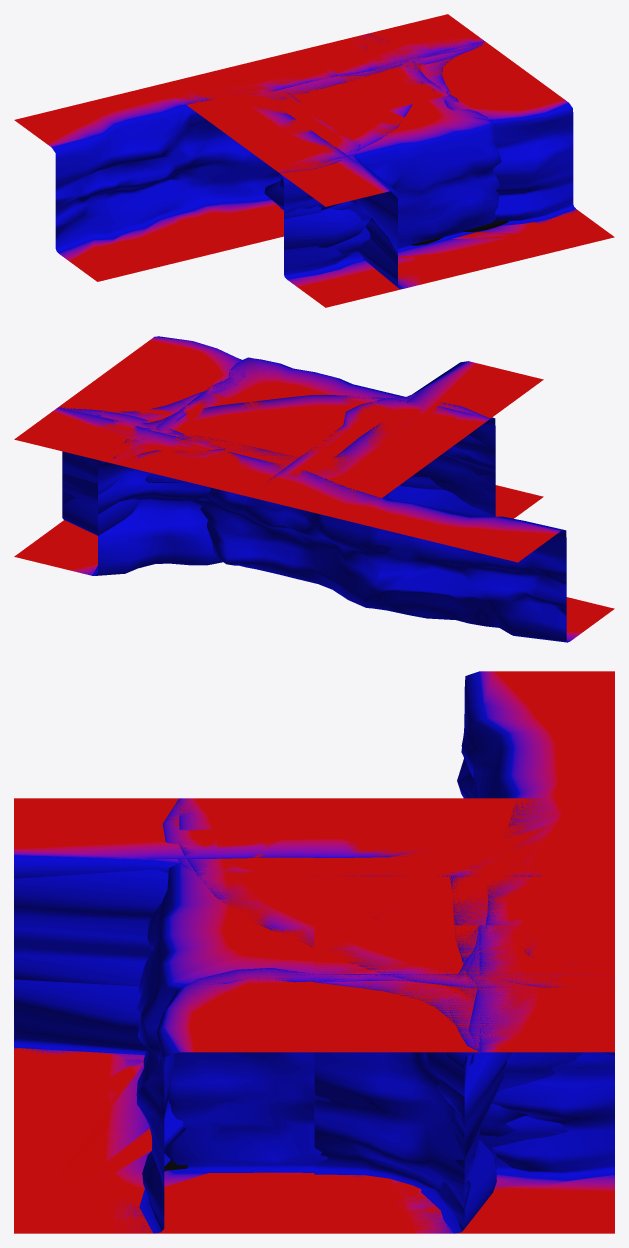
The model's file is Half_Cliffs_Vertex_Color.fbx.
3 views of the same model, one above another, from view 1: azimuth 30°, elevation 25°; view 2: azimuth 150°, elevation 25°; view 3: azimuth 270°, elevation 25° (orthographic). The views are drawn at different scales.
Visible parts, largest first — view 1: Half_Cliff_Face_4, Half_Cliff_Big_Hard_Corner, Cliff_Stears, Half_Cliff_big_Inside_Corner_Hard, Half_Cliff_Big_Inside_Corner, Half_Cliff_Big_Soft_Corner, Half_Cliff_Face_2, Half_Cliff_Face_1, Half_Cliff_Corner_3, Half_Cliff_Face_3, Half_Cliff_Corner_4; view 2: Half_Cliff_Face_4, Half_Cliff_Big_Hard_Corner, Half_Cliff_Big_Soft_Corner, Half_Cliff_big_Inside_Corner_Hard, Cliff_Stears, Half_Cliff_Corner_2, Half_Cliff_Face_2, Half_Cliff_Corner_3, Half_Cliff_Face_1, Half_Cliff_Big_Inside_Corner, Half_Cliff_Corner_4, Half_Cliff_Corner_1 (+1 smaller); view 3: Half_Cliff_Big_Hard_Corner, Half_Cliff_big_Inside_Corner_Hard, Half_Cliff_Face_4, Half_Cliff_Big_Soft_Corner, Cliff_Stears, Half_Cliff_Big_Inside_Corner, Half_Cliff_Corner_4, Half_Cliff_Corner_1, Half_Cliff_Face_1, Half_Cliff_Corner_3, Half_Cliff_Face_2, Half_Cliff_Face_3 (+1 smaller).
Boxes of the visible parts, x1=… form: Half_Cliff_Face_4: x1=14, y1=14, x2=482, y2=281; Half_Cliff_Big_Hard_Corner: x1=159, y1=44, x2=613, y2=307; Cliff_Stears: x1=261, y1=15, x2=577, y2=307; Half_Cliff_big_Inside_Corner_Hard: x1=168, y1=16, x2=604, y2=288; Half_Cliff_Big_Inside_Corner: x1=295, y1=17, x2=613, y2=288; Half_Cliff_Big_Soft_Corner: x1=212, y1=33, x2=603, y2=307; Half_Cliff_Face_2: x1=303, y1=14, x2=484, y2=76; Half_Cliff_Face_1: x1=306, y1=16, x2=479, y2=76; Half_Cliff_Corner_3: x1=341, y1=16, x2=481, y2=110; Half_Cliff_Face_3: x1=321, y1=15, x2=480, y2=73; Half_Cliff_Corner_4: x1=370, y1=16, x2=483, y2=95; Half_Cliff_Face_4: x1=17, y1=407, x2=614, y2=642; Half_Cliff_Big_Hard_Corner: x1=28, y1=357, x2=536, y2=574; Half_Cliff_Big_Soft_Corner: x1=23, y1=395, x2=543, y2=570; Half_Cliff_big_Inside_Corner_Hard: x1=18, y1=361, x2=543, y2=521; Cliff_Stears: x1=19, y1=336, x2=538, y2=500; Half_Cliff_Corner_2: x1=18, y1=448, x2=224, y2=575; Half_Cliff_Face_2: x1=14, y1=408, x2=214, y2=474; Half_Cliff_Corner_3: x1=15, y1=391, x2=249, y2=535; Half_Cliff_Face_1: x1=69, y1=427, x2=224, y2=480; Half_Cliff_Big_Inside_Corner: x1=22, y1=361, x2=467, y2=485; Half_Cliff_Corner_4: x1=16, y1=391, x2=208, y2=443; Half_Cliff_Corner_1: x1=14, y1=437, x2=221, y2=575; Half_Cliff_Big_Hard_Corner: x1=14, y1=798, x2=614, y2=1233; Half_Cliff_big_Inside_Corner_Hard: x1=14, y1=798, x2=614, y2=1233; Half_Cliff_Face_4: x1=314, y1=671, x2=614, y2=1233; Half_Cliff_Big_Soft_Corner: x1=14, y1=807, x2=614, y2=1233; Cliff_Stears: x1=14, y1=798, x2=614, y2=1233; Half_Cliff_Big_Inside_Corner: x1=14, y1=855, x2=613, y2=1233; Half_Cliff_Corner_4: x1=314, y1=927, x2=614, y2=1230; Half_Cliff_Corner_1: x1=315, y1=925, x2=614, y2=1233; Half_Cliff_Face_1: x1=314, y1=925, x2=614, y2=1233; Half_Cliff_Corner_3: x1=314, y1=925, x2=614, y2=1233; Half_Cliff_Face_2: x1=314, y1=925, x2=614, y2=1233; Half_Cliff_Face_3: x1=314, y1=925, x2=614, y2=1233.
Size of the model in its own units: 1800 by 400 by 1200.
